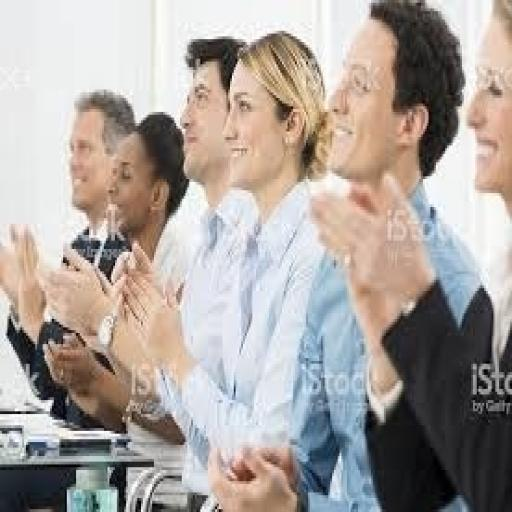clapping: (204, 0, 505, 509), (35, 41, 319, 435), (126, 40, 378, 484), (7, 80, 156, 458)
